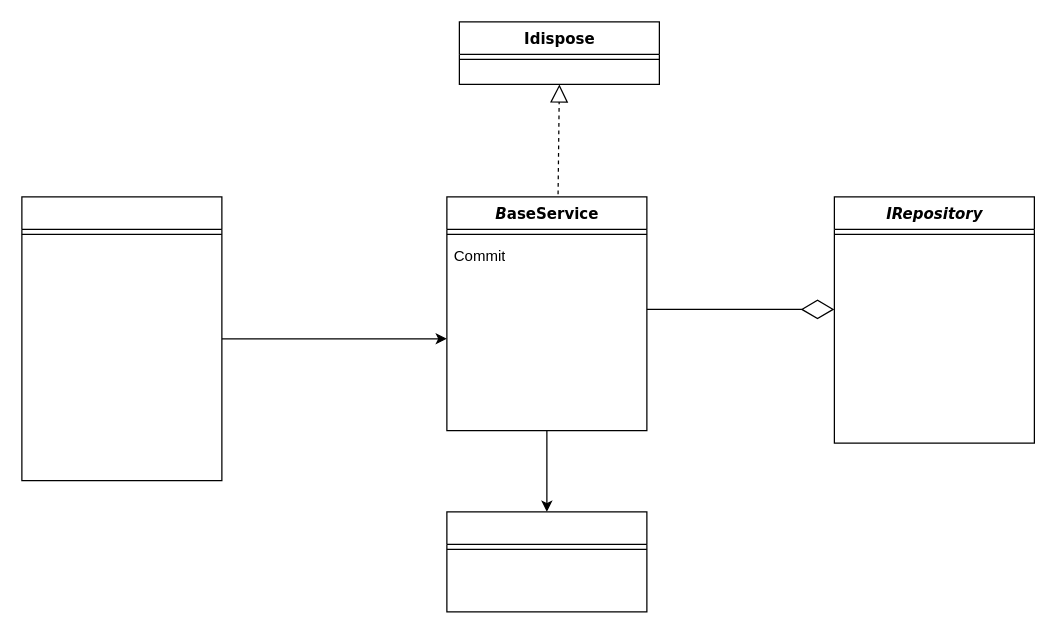
The diagram is 1056 pixels wide and 634 high, and some of its shapes have lost their labels. The centre of each missing label's shape, as x and y in pixels:
"BaseControl" belongs at point 121,338.
"DBContext" belongs at point 546,561.
